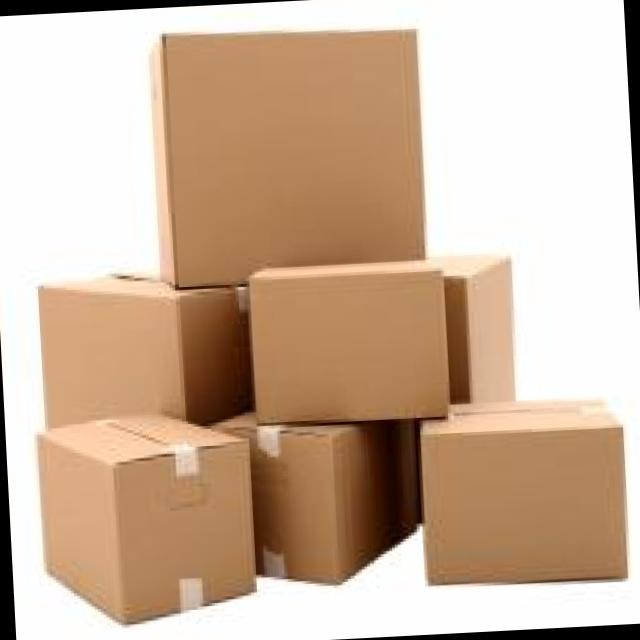box: (148, 28, 430, 288), (35, 412, 261, 627), (37, 271, 259, 451), (426, 397, 629, 590), (195, 410, 421, 583), (247, 260, 454, 425), (428, 251, 519, 407)
